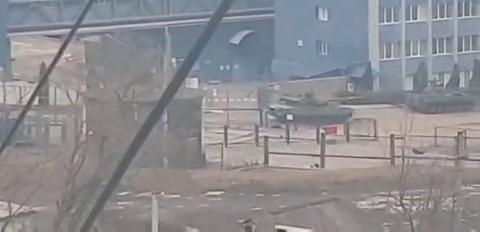tank: (266, 92, 363, 125), (405, 84, 477, 115)
